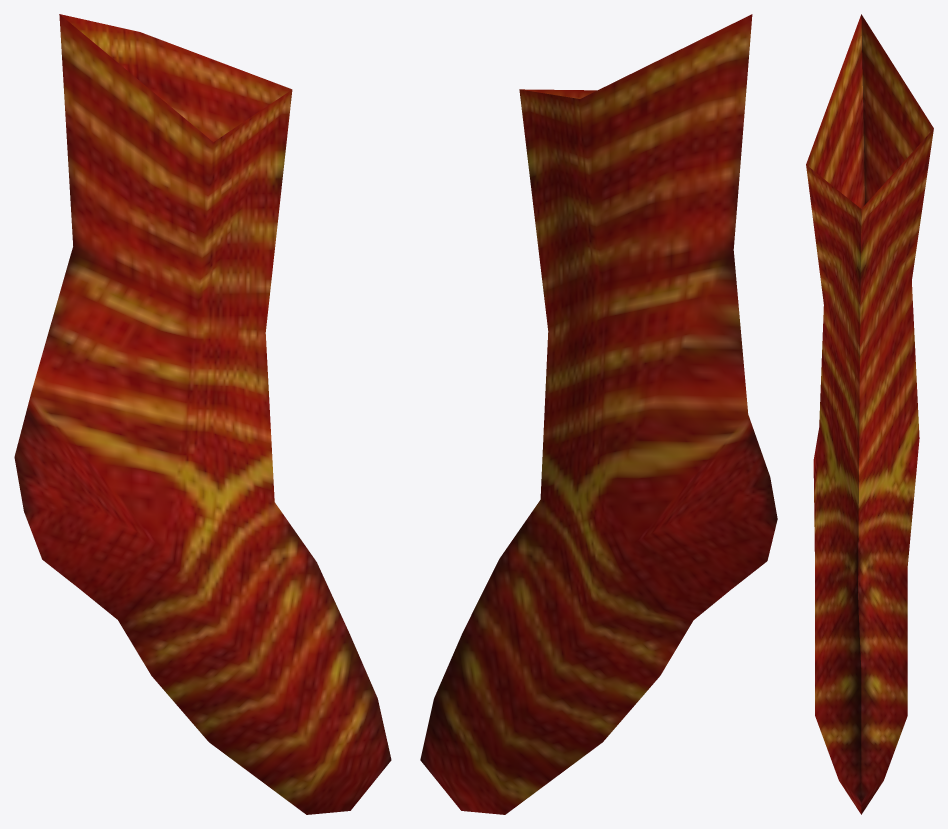
File: pir_m_prp_hol_decoStocking01_winter08.fbx
3 views of the same model, side by side, from view 1: azimuth 30°, elevation 25°; view 2: azimuth 150°, elevation 25°; view 3: azimuth 270°, elevation 25° (orthographic). The views are drawn at different scales.
Visible parts, largest first — view 1: decoStocking01; view 2: decoStocking01; view 3: decoStocking01.
Part boxes in pixels (x1=…): decoStocking01: x1=14, y1=14, x2=391, y2=814; decoStocking01: x1=420, y1=14, x2=777, y2=814; decoStocking01: x1=806, y1=14, x2=933, y2=814.
Size of the model in its own units: 60.3 by 138 by 23.18.
Materials: 1 (1 with a texture image).
